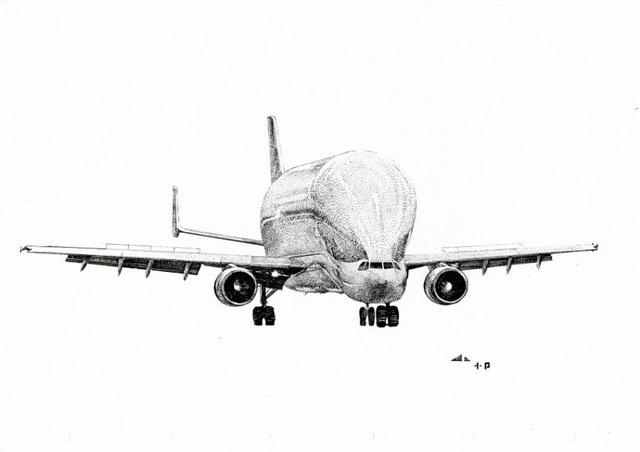airplane: (6, 125, 606, 330)
